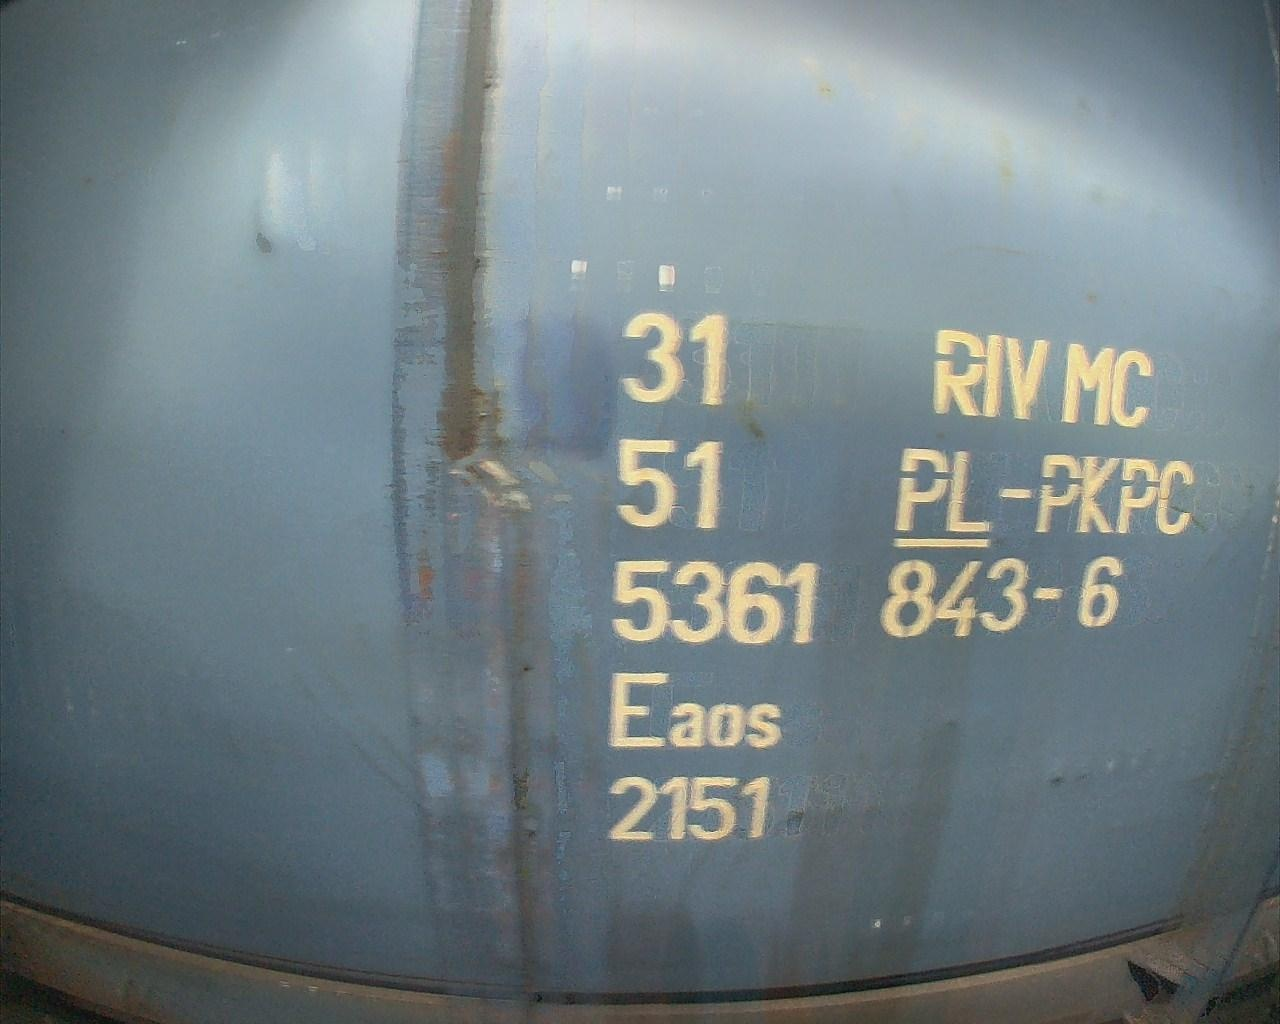UIC: (601, 305, 1201, 851)
